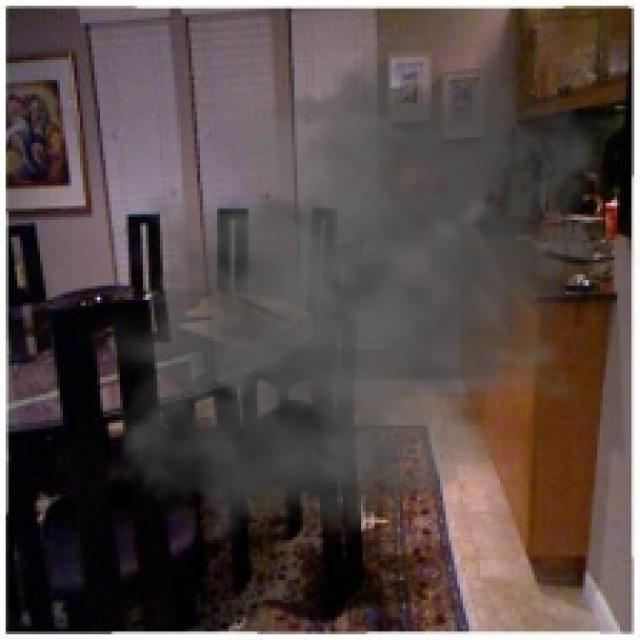Smoke: (77, 14, 637, 583)
